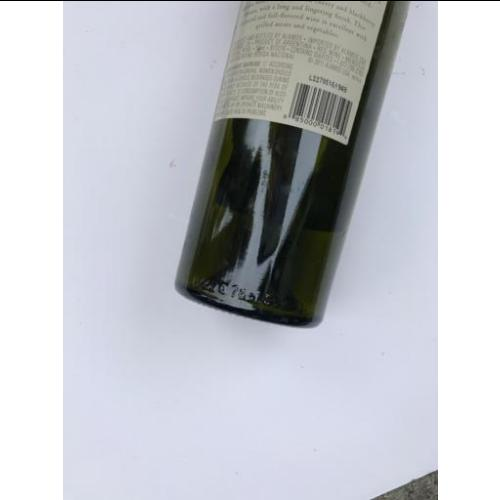glass: (176, 0, 410, 328)
